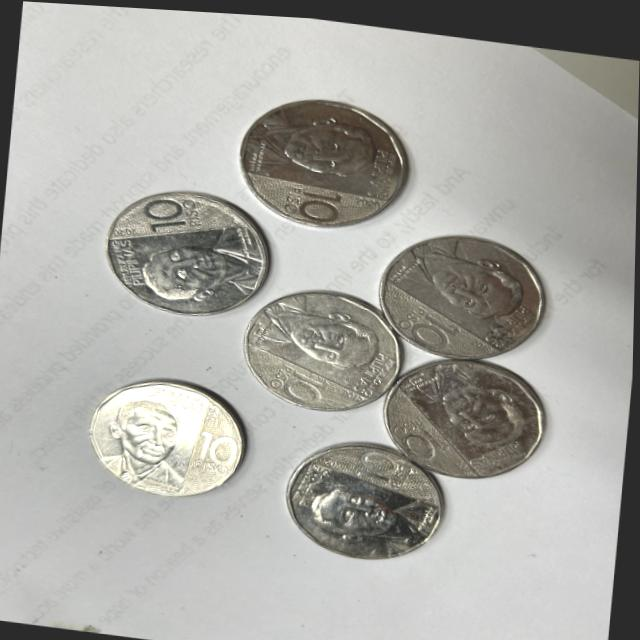10_New_Front: (258, 344, 336, 404), (385, 415, 456, 462), (133, 190, 208, 234), (265, 178, 347, 217), (187, 414, 237, 477), (354, 444, 419, 487), (400, 310, 463, 347)
